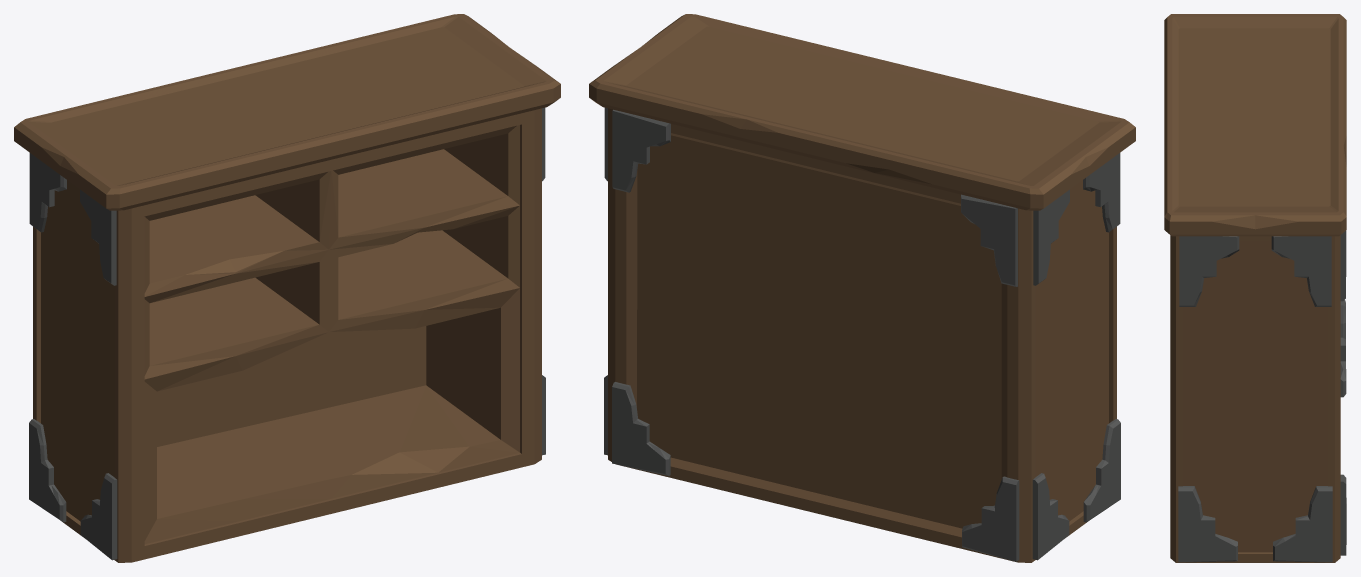
File: Shelving_002.fbx
The picture shows the model from 3 angles, left to right: view 1: azimuth 30°, elevation 25°; view 2: azimuth 150°, elevation 25°; view 3: azimuth 270°, elevation 25°; orthographic projection. The views are drawn at different scales.
Parts seen in each view (by area): view 1: Shelving_002; view 2: Shelving_002; view 3: Shelving_002.
Boxes of the visible parts, left/top/right/bottom form: Shelving_002: left=14, top=14, right=560, bottom=562; Shelving_002: left=589, top=14, right=1135, bottom=562; Shelving_002: left=1164, top=14, right=1346, bottom=562.
Size of the model in its own units: 1.15 by 0.9119 by 0.4284.
